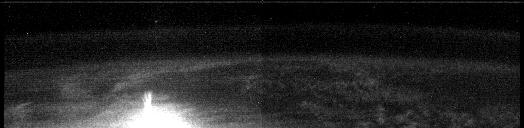positive: (139, 90, 154, 117)
